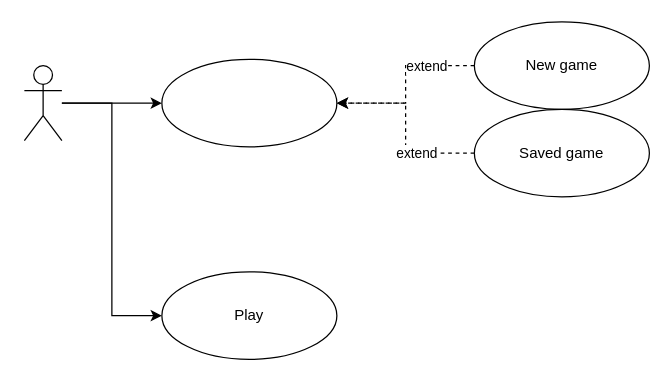
This 671x381 diagram has some shape labels left out. The centre of each missing label's shape, as x and y in pixels:
"Launch game" goes at point 249,102.
"Player" goes at point 42,102.
